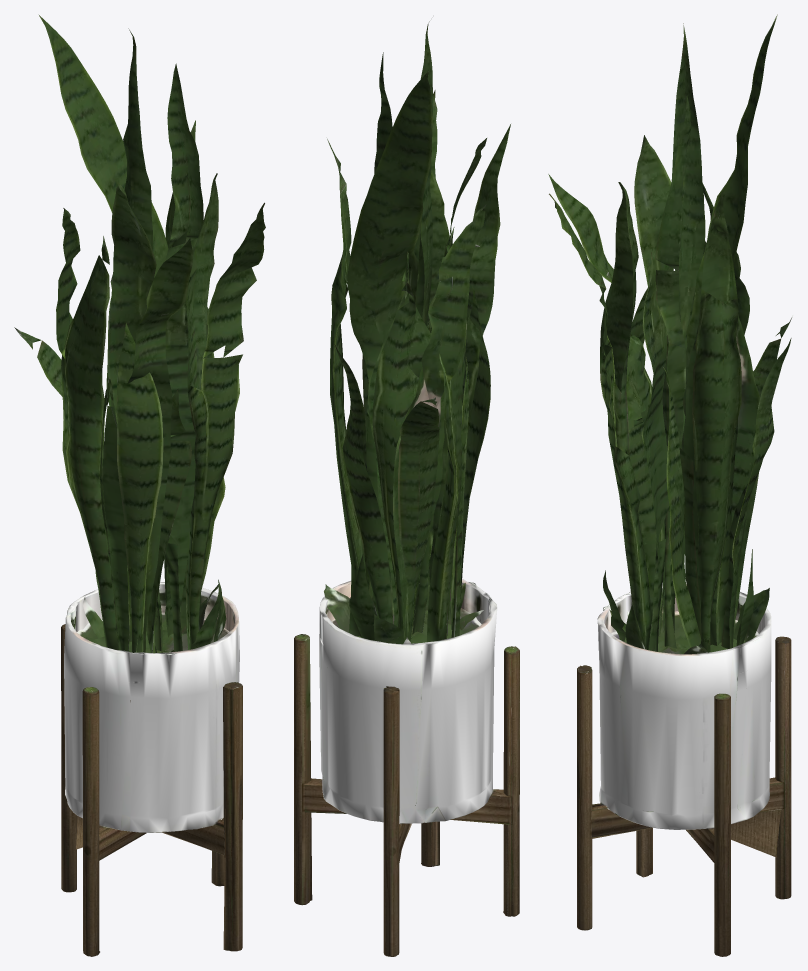
The model's file is plant3.min.glb.
3 renders of one model, left to right at view 1: azimuth 30°, elevation 25°; view 2: azimuth 150°, elevation 25°; view 3: azimuth 270°, elevation 25°, orthographic. The views are drawn at different scales.
Size of the model in its own units: 0.2022 by 0.9512 by 0.2412.
Materials: 1 (1 with a texture image).
